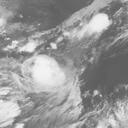cyclone: (20, 52, 79, 101)
